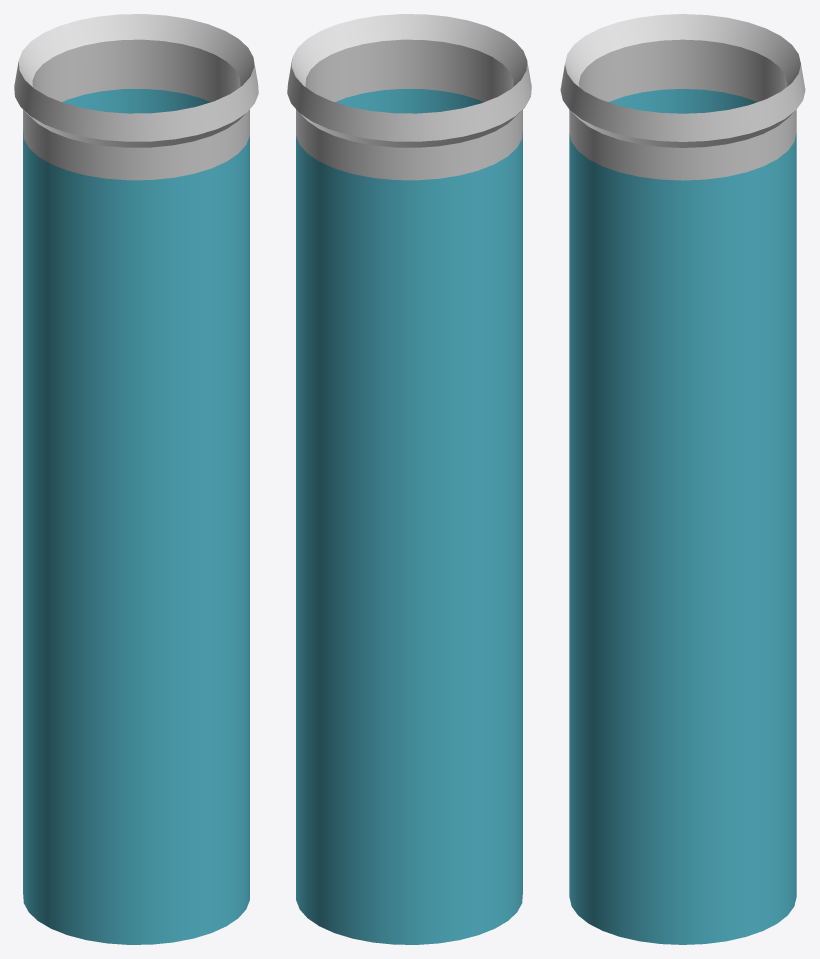
File: testTube.fbx
The picture shows the model from 3 angles, left to right: view 1: azimuth 30°, elevation 25°; view 2: azimuth 150°, elevation 25°; view 3: azimuth 270°, elevation 25°; orthographic projection.
Visible parts, largest first — view 1: testTube; view 2: testTube; view 3: testTube.
Part boxes in pixels (x1=…): testTube: x1=14, y1=14, x2=258, y2=944; testTube: x1=287, y1=14, x2=531, y2=944; testTube: x1=560, y1=14, x2=805, y2=944.
Bounding box in the file's own units: 565 × 2118 × 565.
